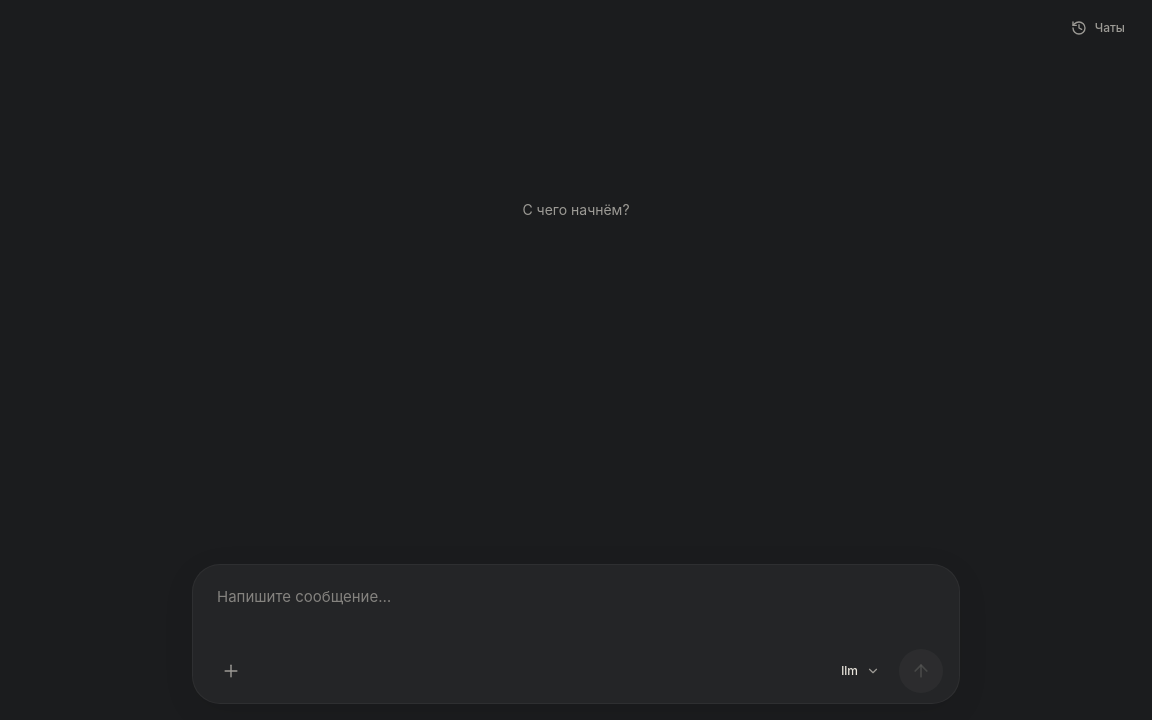
chat media harness › sends through the selected LLM and shows both its answer and generated image
This screenshot has width=1152, height=720.
Expected: the text "llm" is shown, [841,663,858,679]
Type "Нарисуй кота" into the text box labelled "сообщение" at {"x": 576, "y": 609}, box [209,577,943,641]
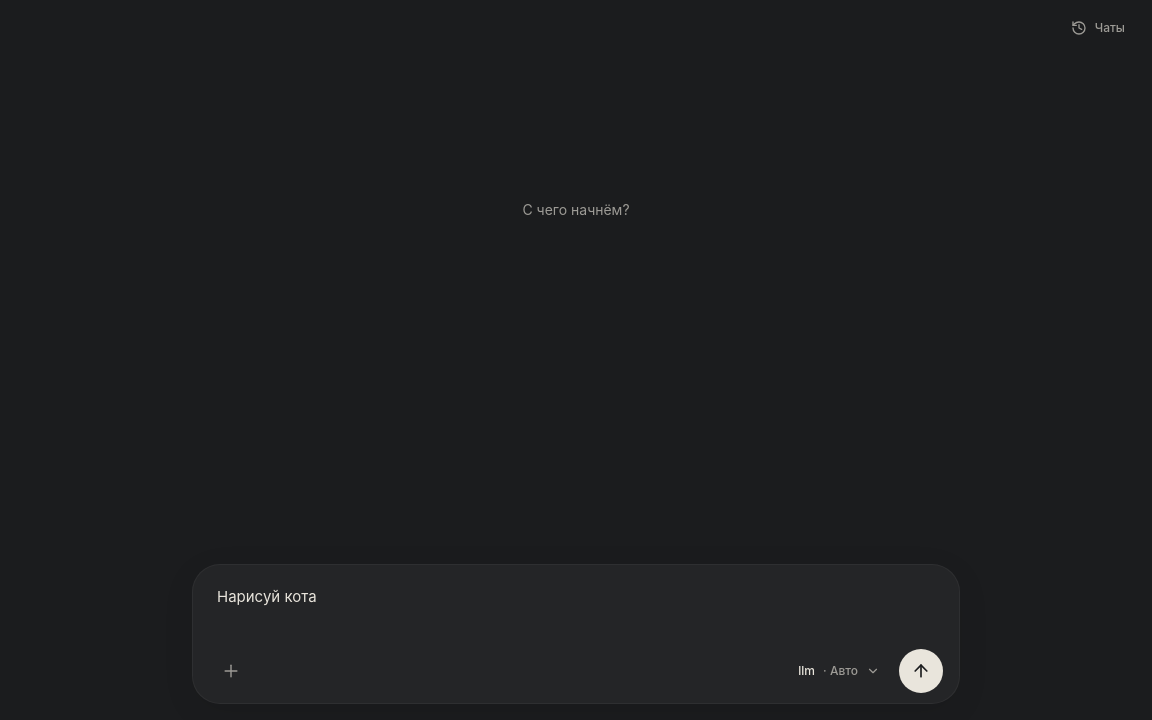
Click the button named "Отправить" at {"x": 921, "y": 671}, box [899,649,943,693]
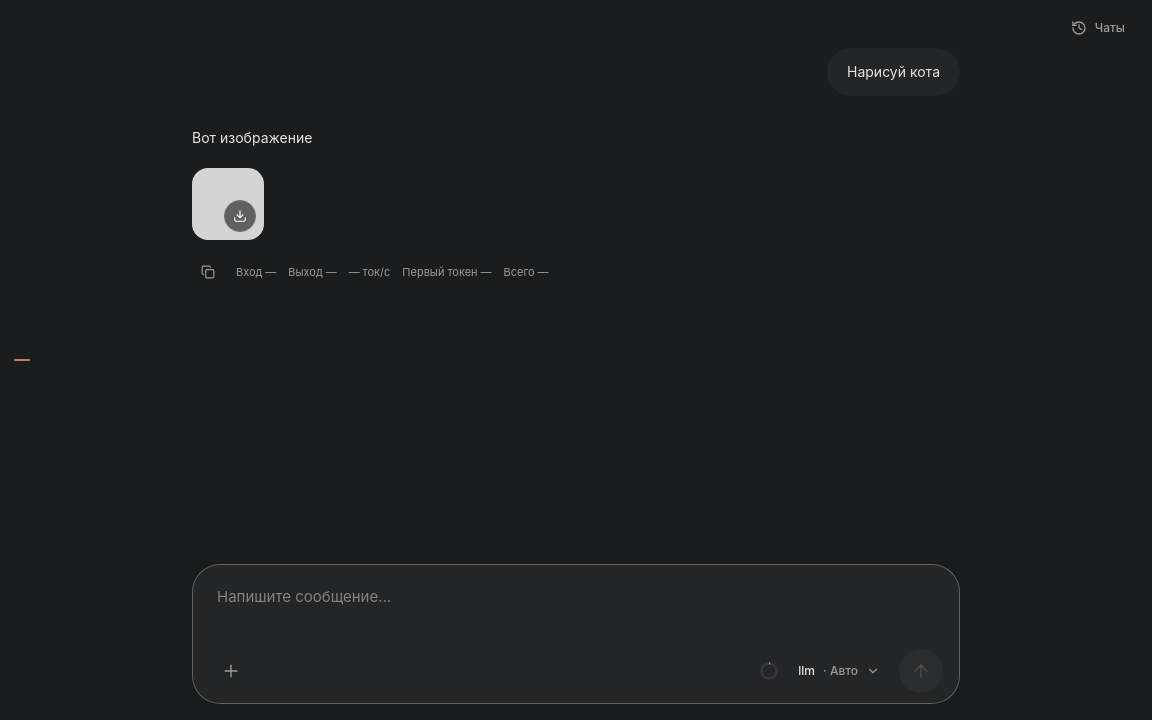
Expected: the text "llm" is shown, [798,663,815,679]
Expected: the text "Вот изображение" is shown, [192,129,312,146]
